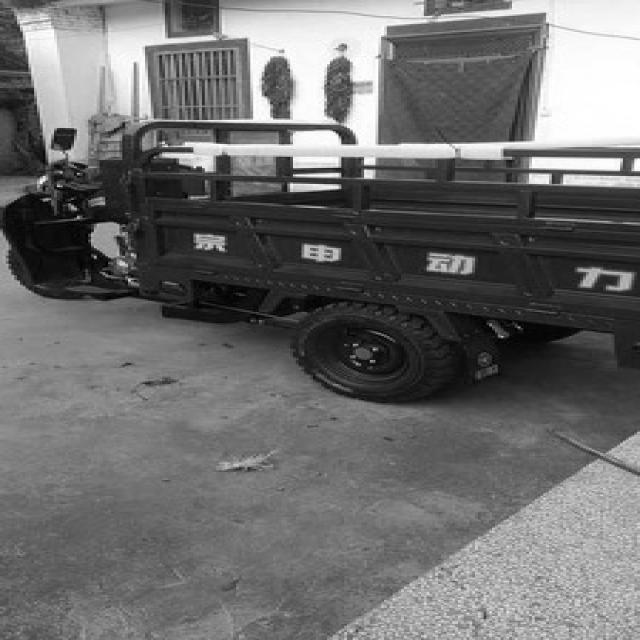tricycle: (3, 117, 637, 400)
